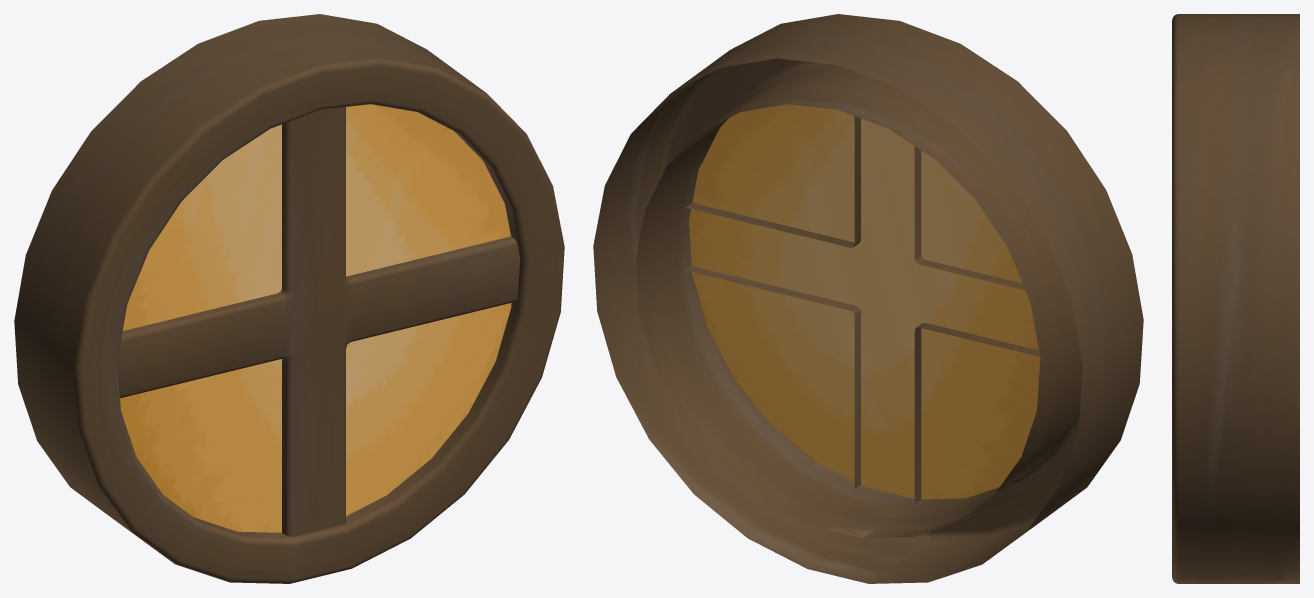
Rendered from Janela_Topo.fbx.
3 views of the same model, side by side, from view 1: azimuth 30°, elevation 25°; view 2: azimuth 150°, elevation 25°; view 3: azimuth 270°, elevation 25° (orthographic).
Parts seen in each view (by area): view 1: Janela_Cima_rico; view 2: Janela_Cima_rico; view 3: Janela_Cima_rico.
Part boxes in pixels (x1=…): Janela_Cima_rico: x1=14, y1=14, x2=564, y2=583; Janela_Cima_rico: x1=593, y1=14, x2=1143, y2=583; Janela_Cima_rico: x1=1172, y1=14, x2=1299, y2=583.
Size of the model in its own units: 112 by 112 by 25.07.
